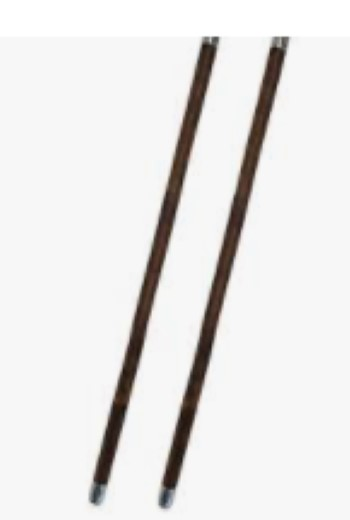baston_e: (81, 57, 228, 451), (159, 63, 292, 466)
baston_v: (151, 474, 182, 511), (85, 475, 111, 512)
